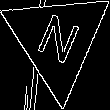N_SW: (32, 9, 84, 71)
